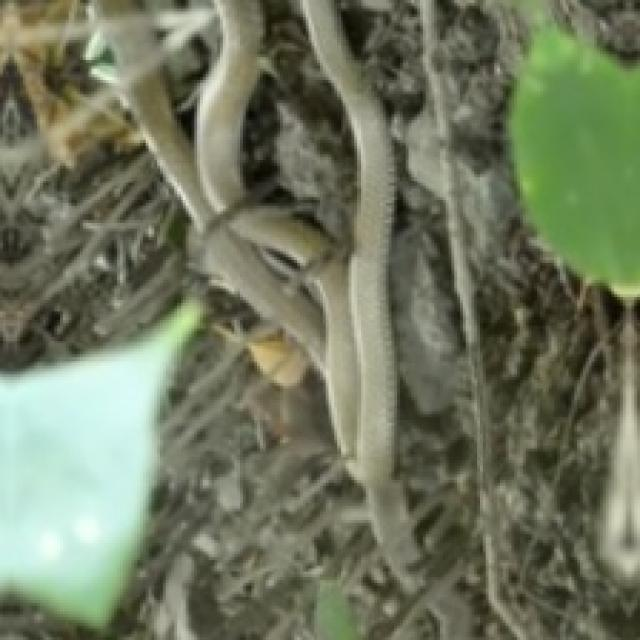king cobra: (91, 0, 414, 566)
